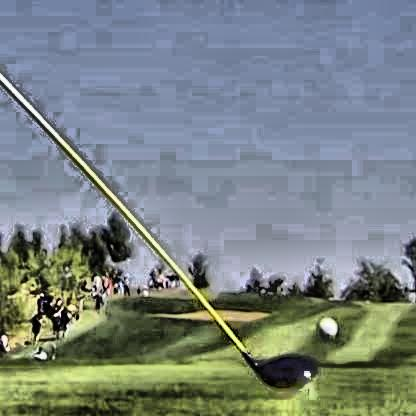golfball: (315, 315, 336, 336)
